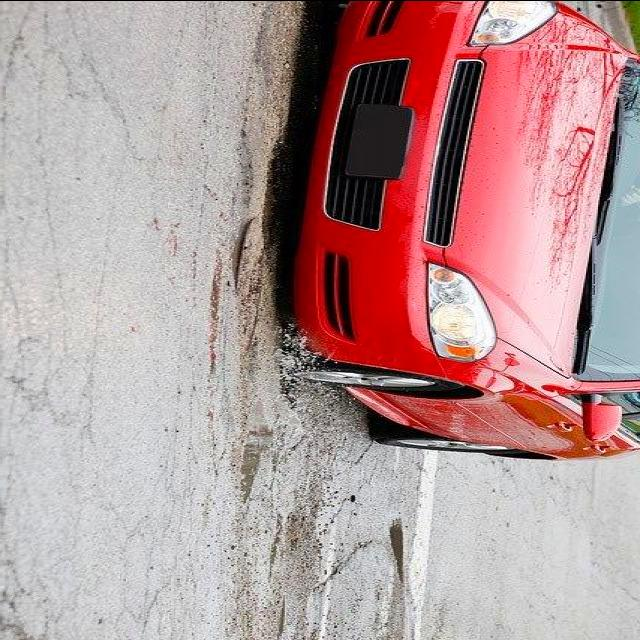jalan retak: (0, 282, 110, 460), (0, 0, 135, 124), (111, 473, 209, 640), (310, 491, 390, 599), (312, 408, 378, 494)
lubang: (228, 392, 284, 576), (262, 277, 328, 419), (217, 158, 260, 298), (144, 208, 206, 278), (370, 510, 418, 588), (259, 582, 313, 639)
